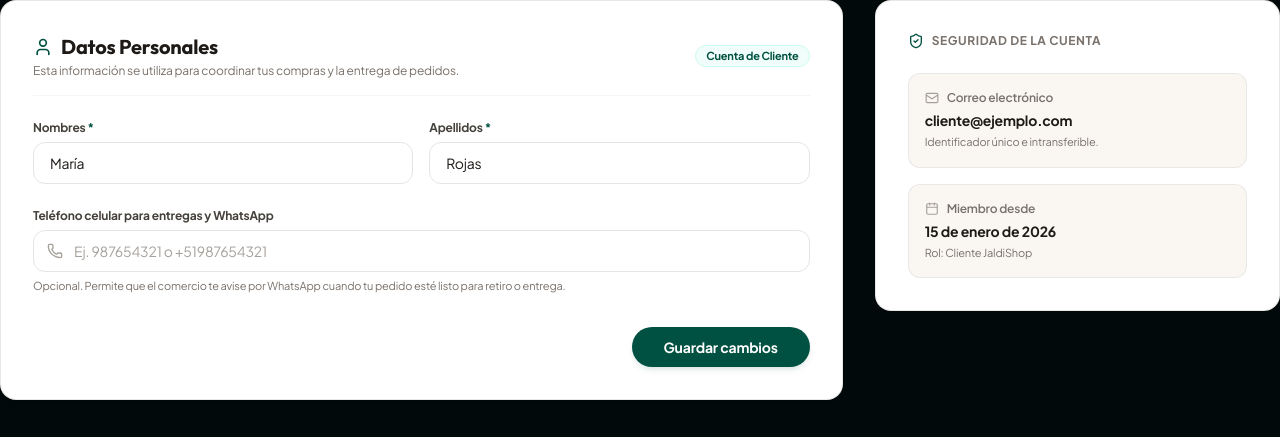
Test: ProfileForm Component › validates required fields and shows inline errors without submitting
Clear the field labelled "Nombres *". click: (223, 163)
box: [33,142,413,184]
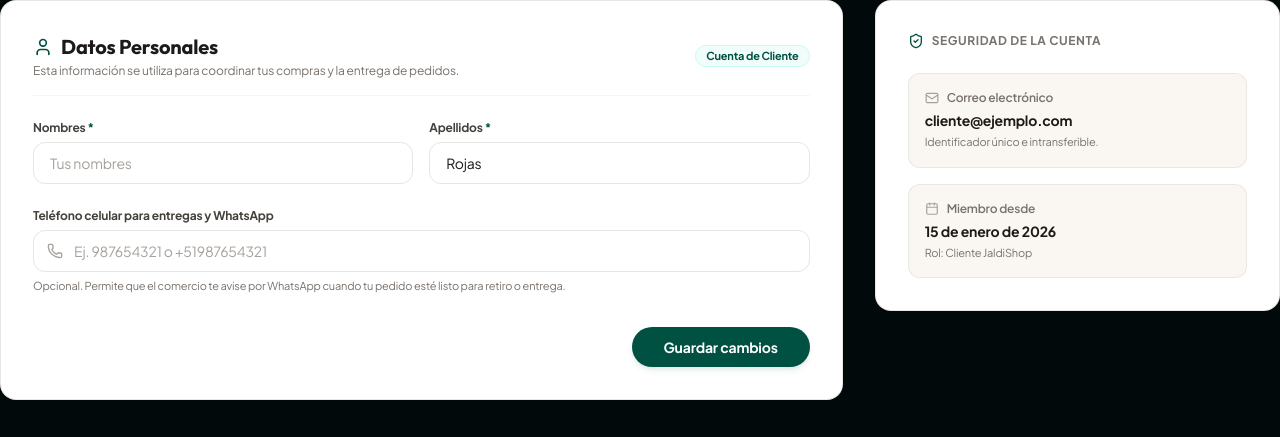
Click the button "Guardar cambios". click: (721, 346)
box: [632,326,810,366]
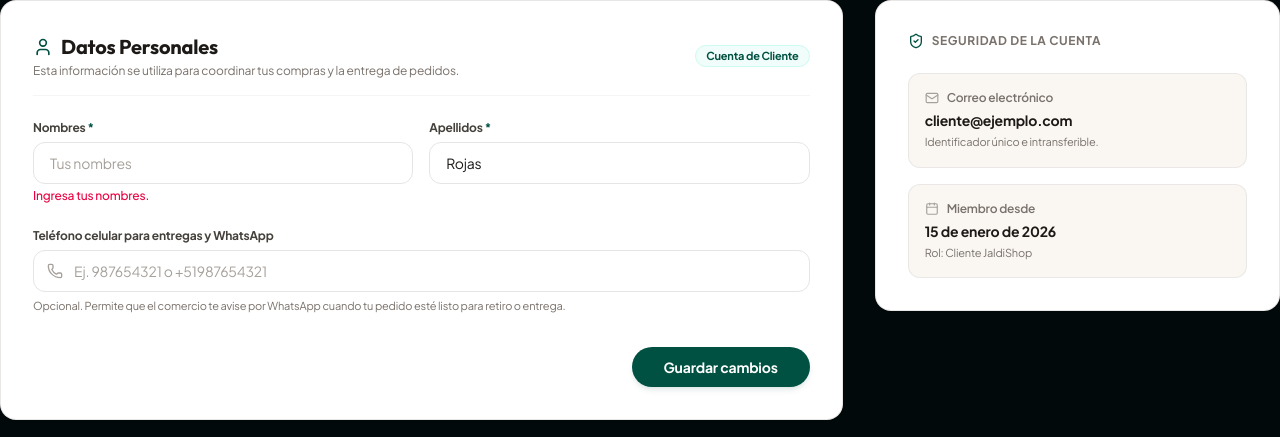
expect the text "Ingresa tus nombres." is shown: met, box [33,188,149,203]
